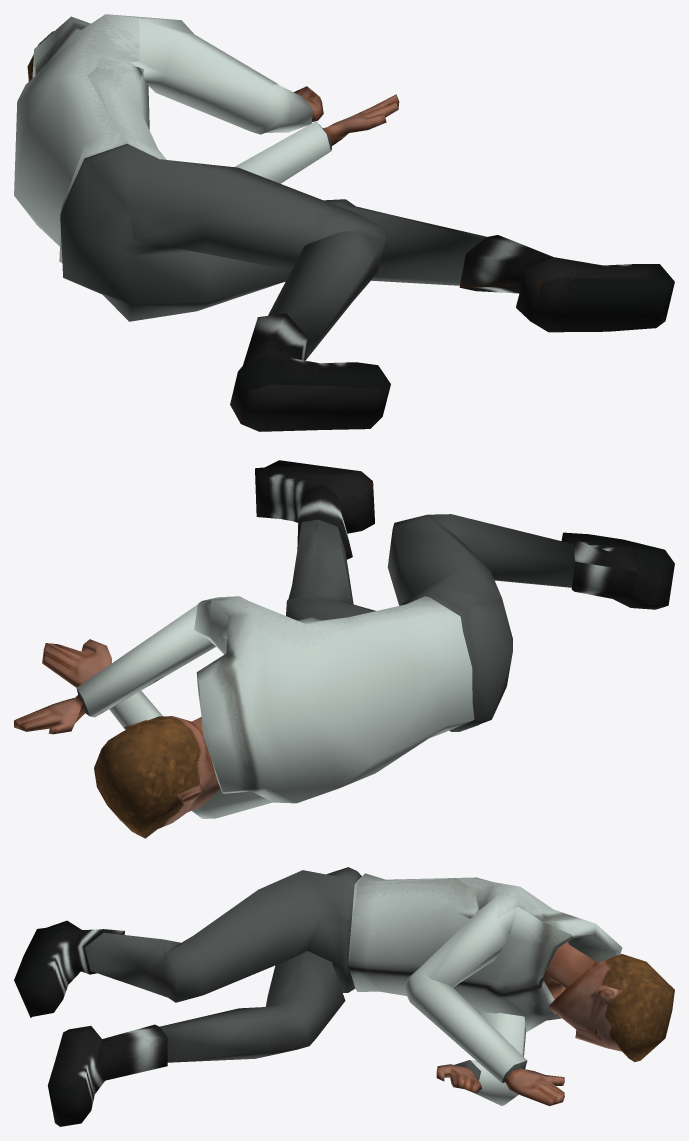
Rendered from MESH_CIENTISTA.fbx.
3 views of the same model, one above another, from view 1: azimuth 30°, elevation 25°; view 2: azimuth 150°, elevation 25°; view 3: azimuth 270°, elevation 25° (orthographic). The views are drawn at different scales.
Visible parts, largest first — view 1: MESH_MAIN_CHARACTER; view 2: MESH_MAIN_CHARACTER; view 3: MESH_MAIN_CHARACTER.
Boxes of the visible parts, <box> form: MESH_MAIN_CHARACTER: <box>14,14,674,431</box>; MESH_MAIN_CHARACTER: <box>14,460,674,838</box>; MESH_MAIN_CHARACTER: <box>14,867,674,1126</box>.
Bounding box in the file's own units: 0.8564 × 0.4543 × 1.41.
